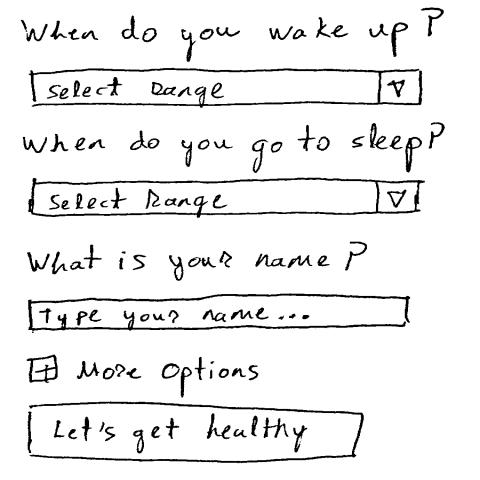Button: (25, 400, 368, 465)
Select: (28, 178, 428, 221), (27, 66, 429, 108)
